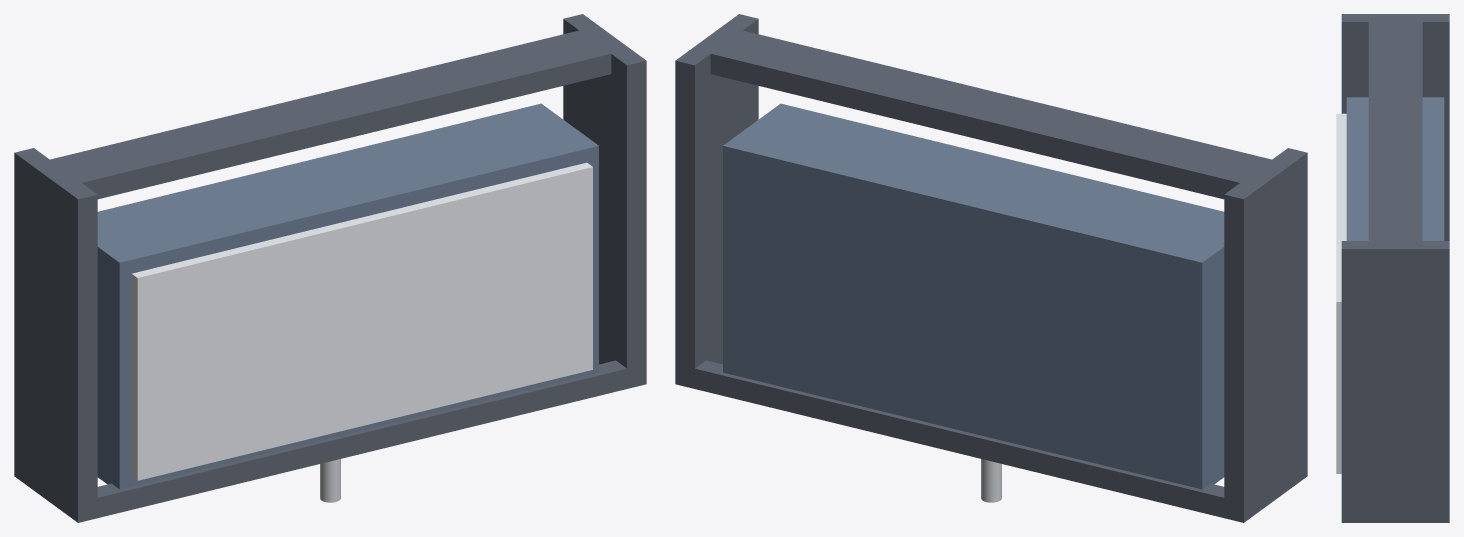
File: arri_skypanel_x21.glb
3 renders of one model, left to right at view 1: azimuth 30°, elevation 25°; view 2: azimuth 150°, elevation 25°; view 3: azimuth 270°, elevation 25°, orthographic. The views are drawn at different scales.
Visible parts, largest first — view 1: arri_skypanel_x21; view 2: arri_skypanel_x21; view 3: arri_skypanel_x21.
Part boxes in pixels (left/top/right/bottom): arri_skypanel_x21: left=14, top=14, right=646, bottom=522; arri_skypanel_x21: left=675, top=14, right=1307, bottom=522; arri_skypanel_x21: left=1336, top=14, right=1449, bottom=522.
Size of the model in its own units: 0.875 by 0.576 by 0.178.
